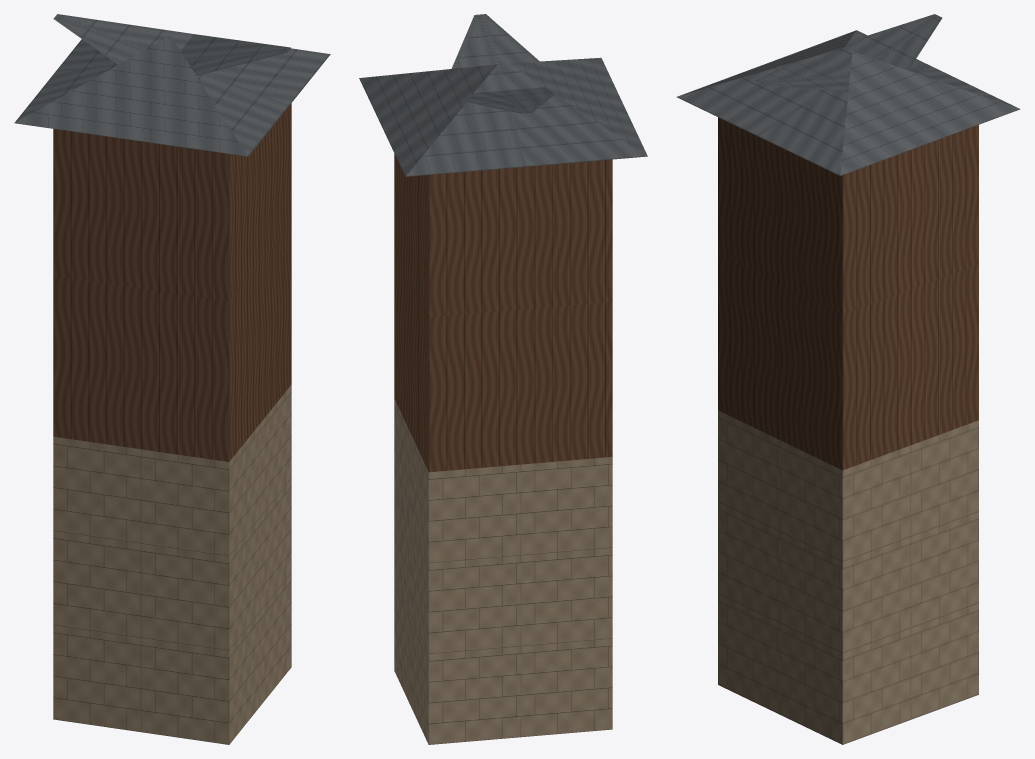
File: bld_c33_-29_459.gltf
The picture shows the model from 3 angles, left to right: view 1: azimuth 30°, elevation 25°; view 2: azimuth 150°, elevation 25°; view 3: azimuth 270°, elevation 25°; orthographic projection. The views are drawn at different scales.
Visible parts, largest first — view 1: bld_c33_-29_459; view 2: bld_c33_-29_459; view 3: bld_c33_-29_459.
Boxes of the visible parts, bbox=[...] form: bld_c33_-29_459: bbox=[14, 14, 330, 744]; bld_c33_-29_459: bbox=[359, 14, 647, 744]; bld_c33_-29_459: bbox=[676, 14, 1020, 744].
Size of the model in its own units: 5.81 by 11.9 by 5.8.
Materials: 3 (3 with a texture image).
